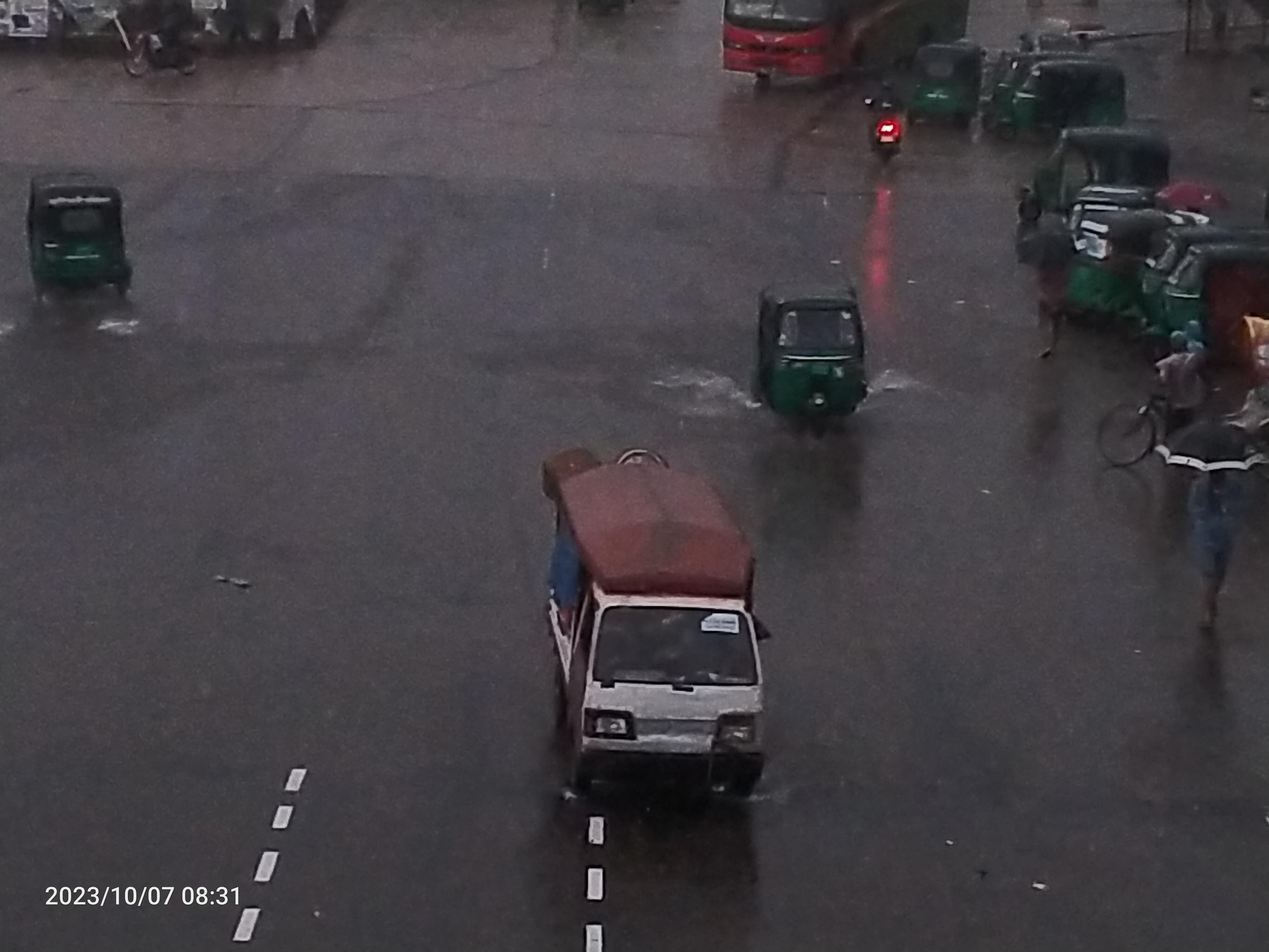Bike: (857, 69, 918, 181)
Bus: (698, 0, 991, 101)
Car: (504, 406, 816, 858), (1061, 305, 1269, 499)
